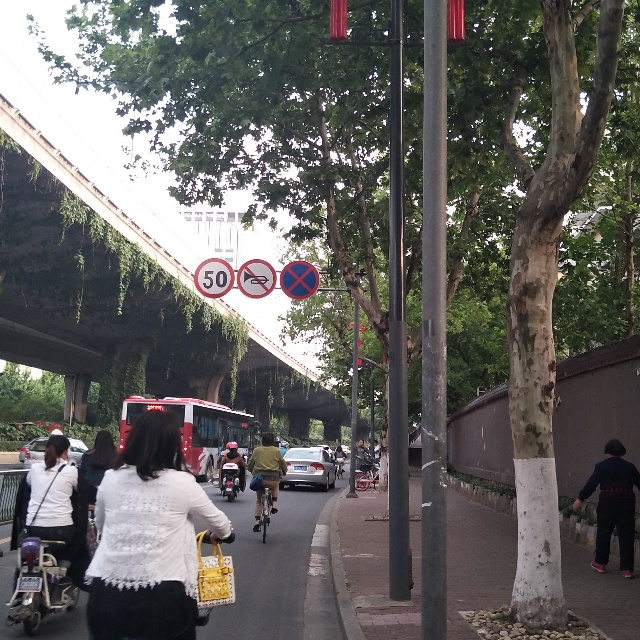nohonk: (237, 259, 277, 299)
stop: (280, 261, 320, 299)
